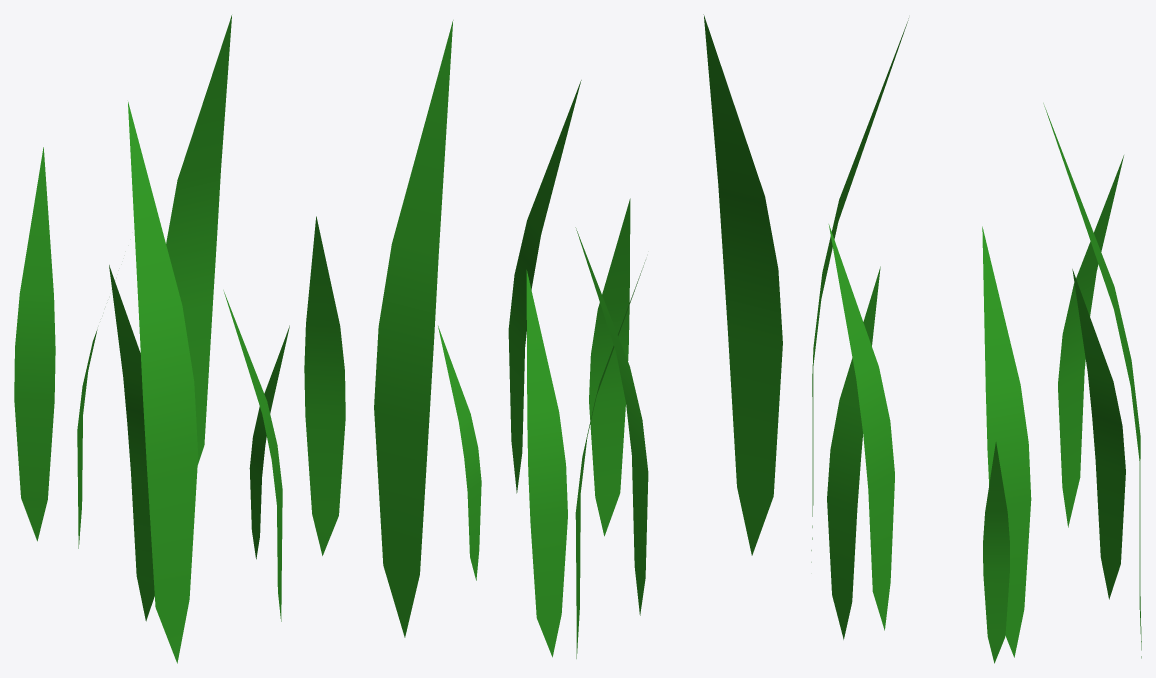
The model's file is GramaTeste.fbx.
3 views of the same model, side by side, from view 1: azimuth 30°, elevation 25°; view 2: azimuth 150°, elevation 25°; view 3: azimuth 270°, elevation 25° (orthographic). The views are drawn at different scales.
Visible parts, largest first — view 1: Plane.001; view 2: Plane.001; view 3: Plane.001.
Boxes of the visible parts, <box> form: Plane.001: <box>14,15,345,663</box>; Plane.001: <box>374,14,782,658</box>; Plane.001: <box>811,18,1141,663</box>.
Size of the model in its own units: 127 by 54.37 by 62.65.
